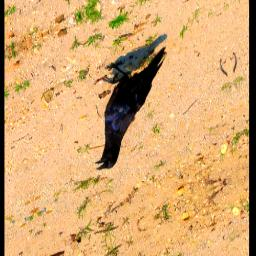Crow: (79, 37, 182, 176)
